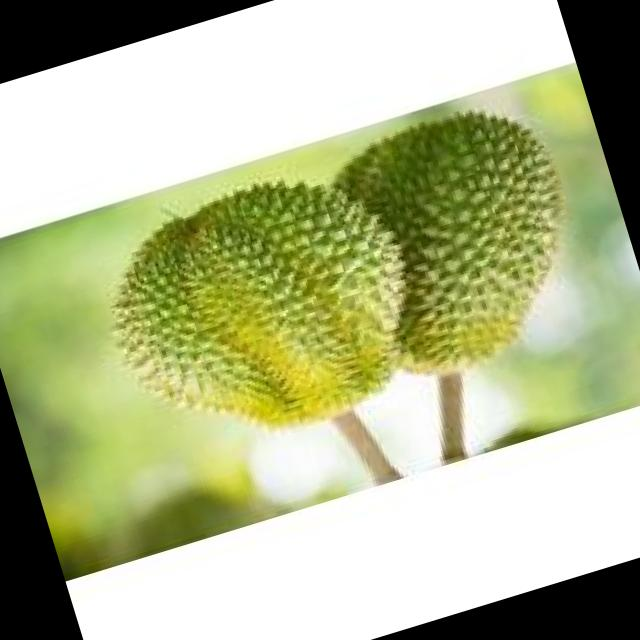fruit: (68, 133, 466, 493), (328, 72, 626, 410)
